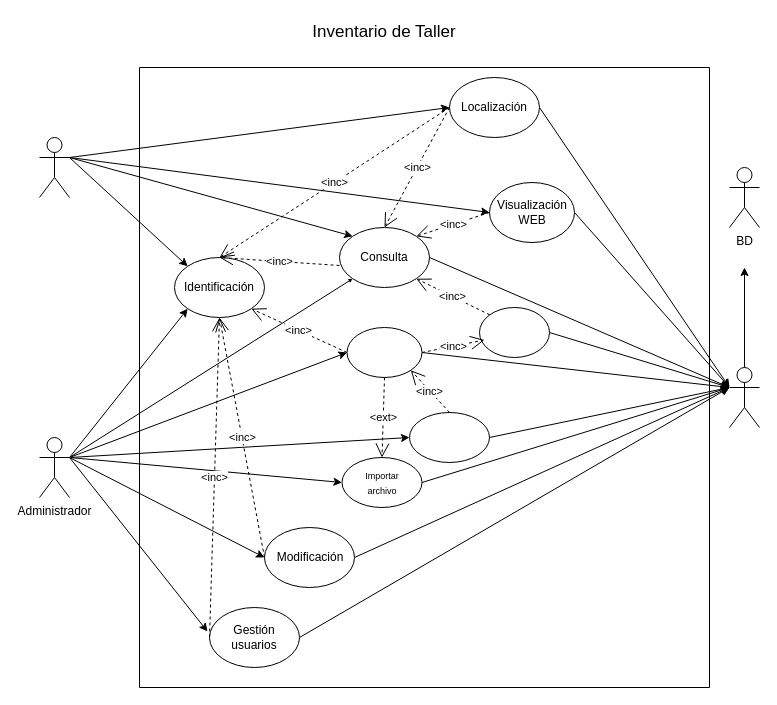
Some shapes in this 777 by 705 pixel diagram are drawn without their labels. The box of each missing label's shape, as (x1, y1, x2, y2) in pixels:
Exportar archivo: (408, 412, 490, 462)
Informes: (346, 326, 422, 378)
Listar: (478, 306, 550, 358)
Profesor: (38, 136, 70, 198)
SO: (728, 366, 760, 428)
